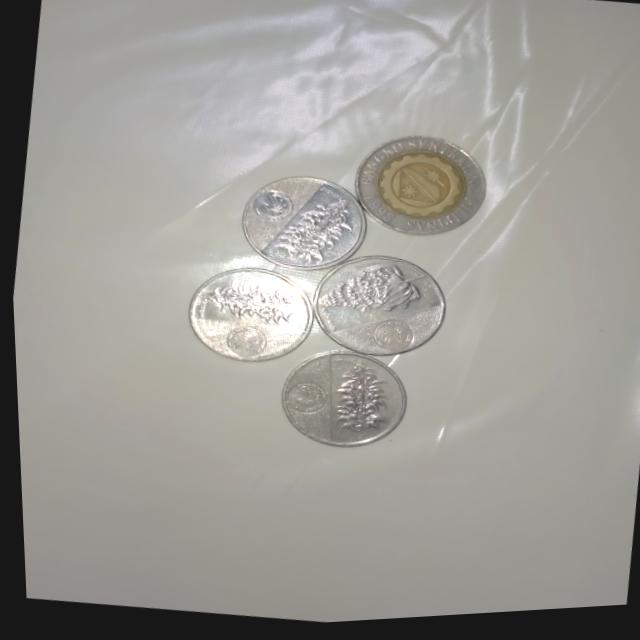10_New_Back: (311, 248, 421, 334)
10_Old_Back: (352, 133, 485, 245)
5_New_Back: (311, 357, 397, 451)
